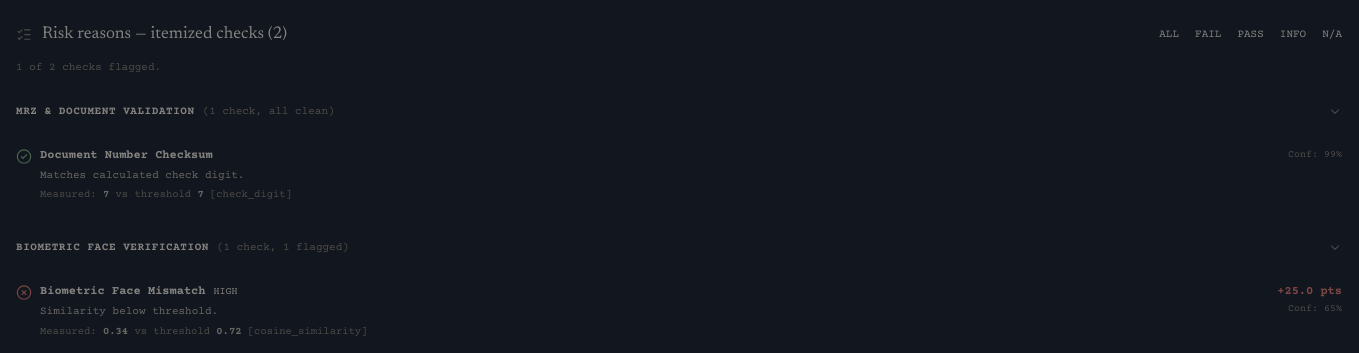
RiskReasons › filters by status
The image size is (1359, 353).
Click the button "FAIL". click: click(1208, 34)
box: top-left (1195, 26), bottom-right (1221, 43)
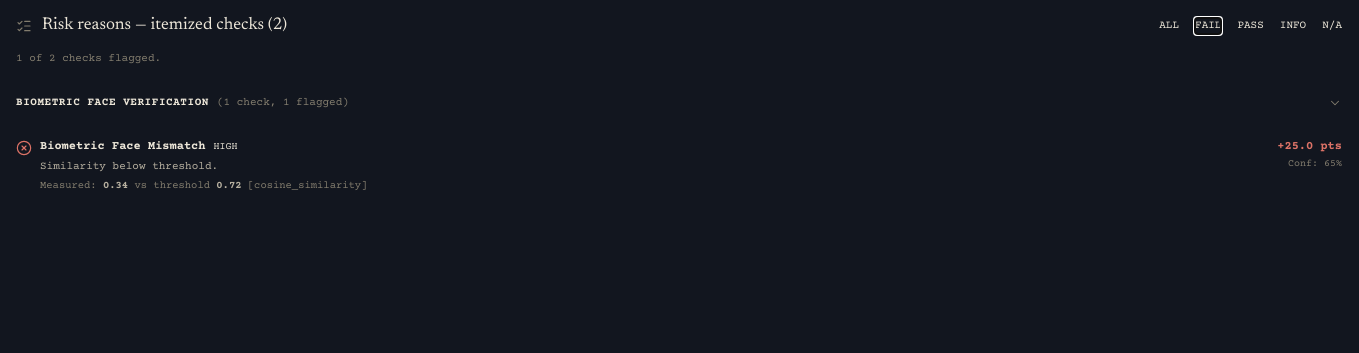
Expected: the text "Biometric Face Mismatch" is shown, top-left (40, 138), bottom-right (206, 156)
Expected: the text "Document Number Checksum" is gone
